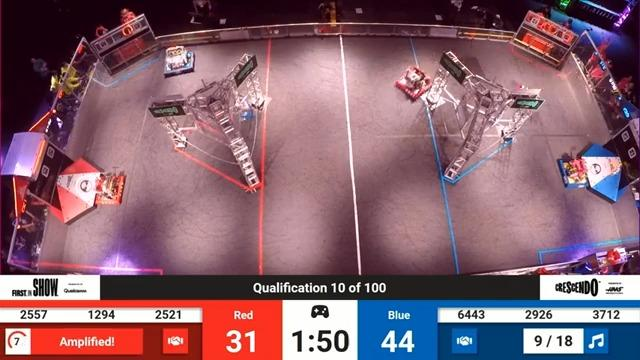robot: (392, 58, 434, 105), (94, 168, 132, 209), (558, 149, 591, 191), (216, 92, 262, 122), (161, 44, 202, 75)
